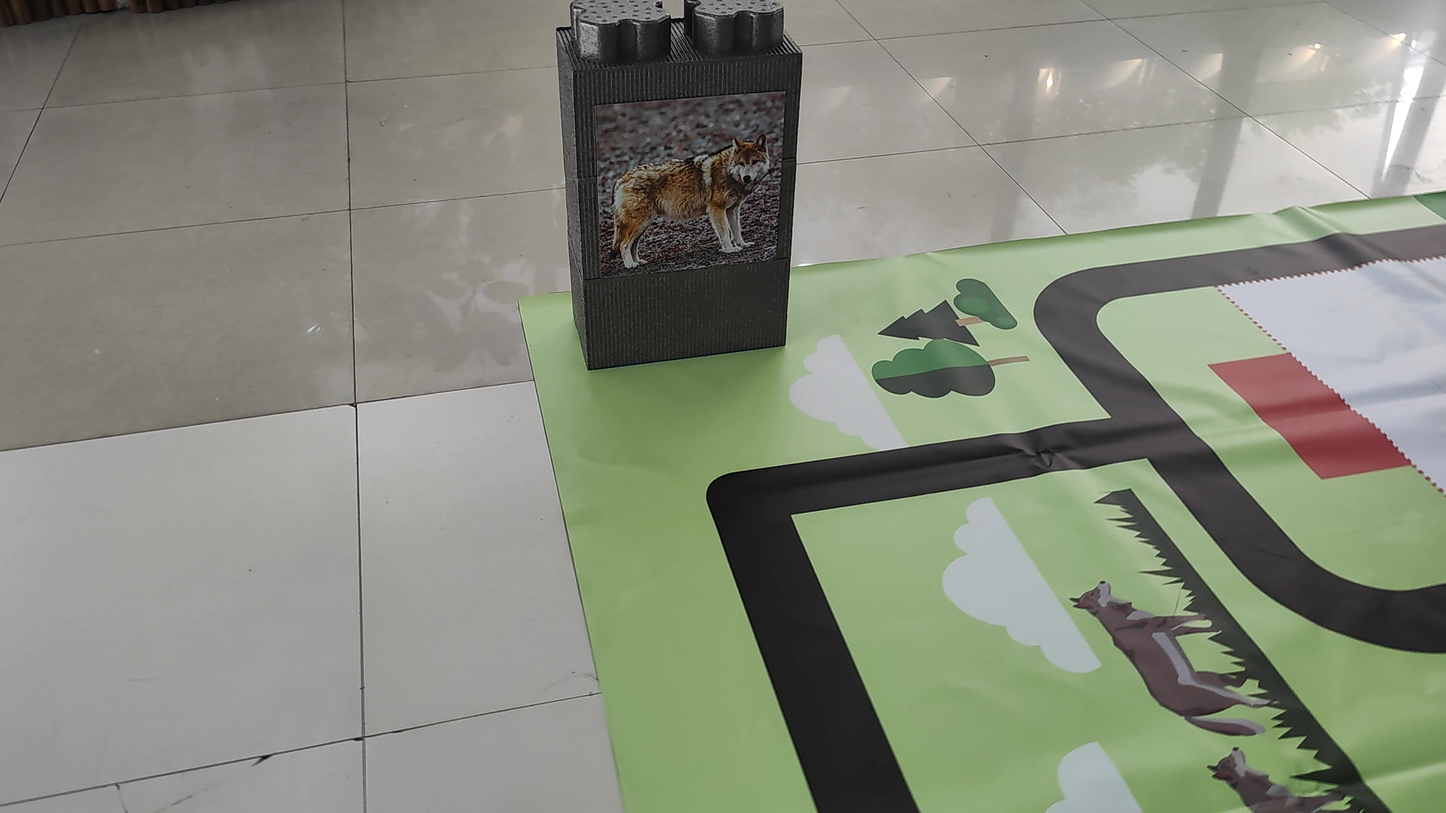wolf: (596, 122, 780, 294)
